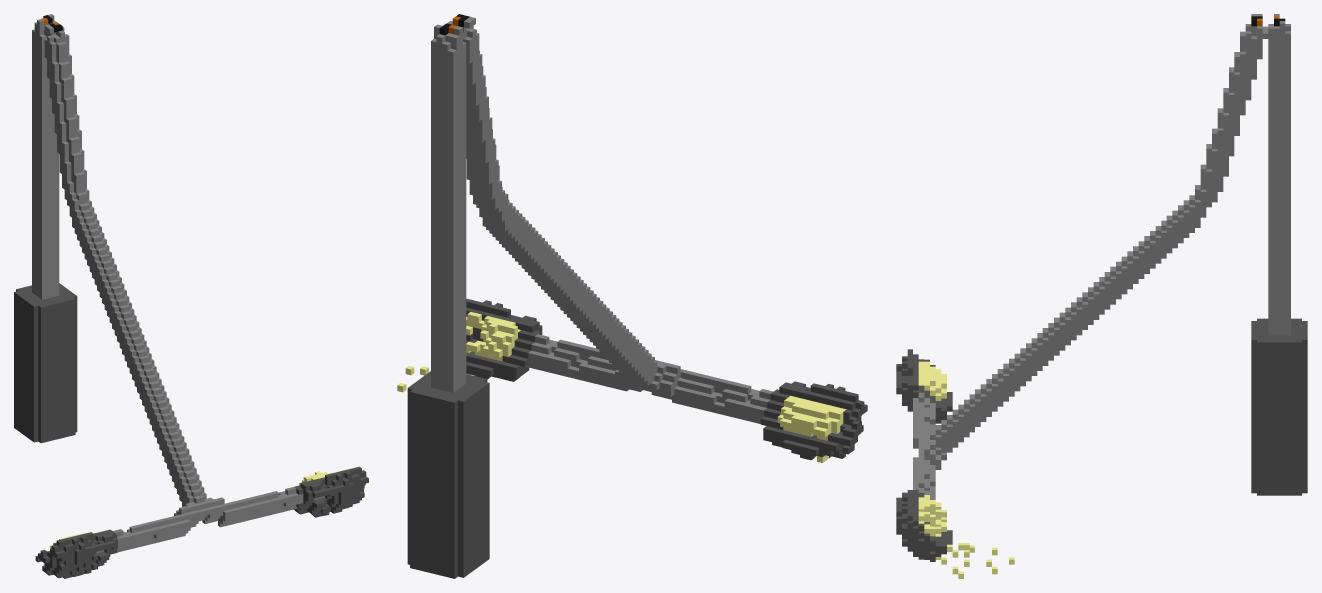
The model's file is Lampadaire_casse.vox.obj.
3 renders of one model, left to right at view 1: azimuth 30°, elevation 25°; view 2: azimuth 150°, elevation 25°; view 3: azimuth 270°, elevation 25°, orthographic. The views are drawn at different scales.
Bounding box in the file's own units: 7.7 × 9.1 × 7.3.
Materials: 1 (1 with a texture image).
